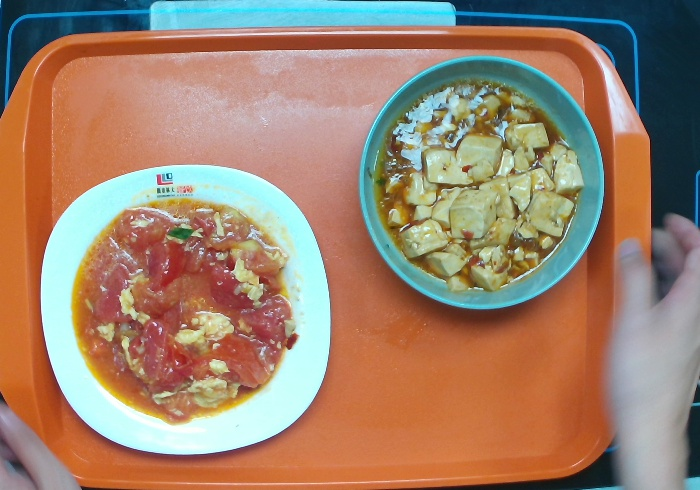ZNLD-Qing_Hua_Yuan_Wan: (356, 53, 608, 310)
ZNLD-Yuan_Jiao_Pan: (38, 162, 334, 456)
